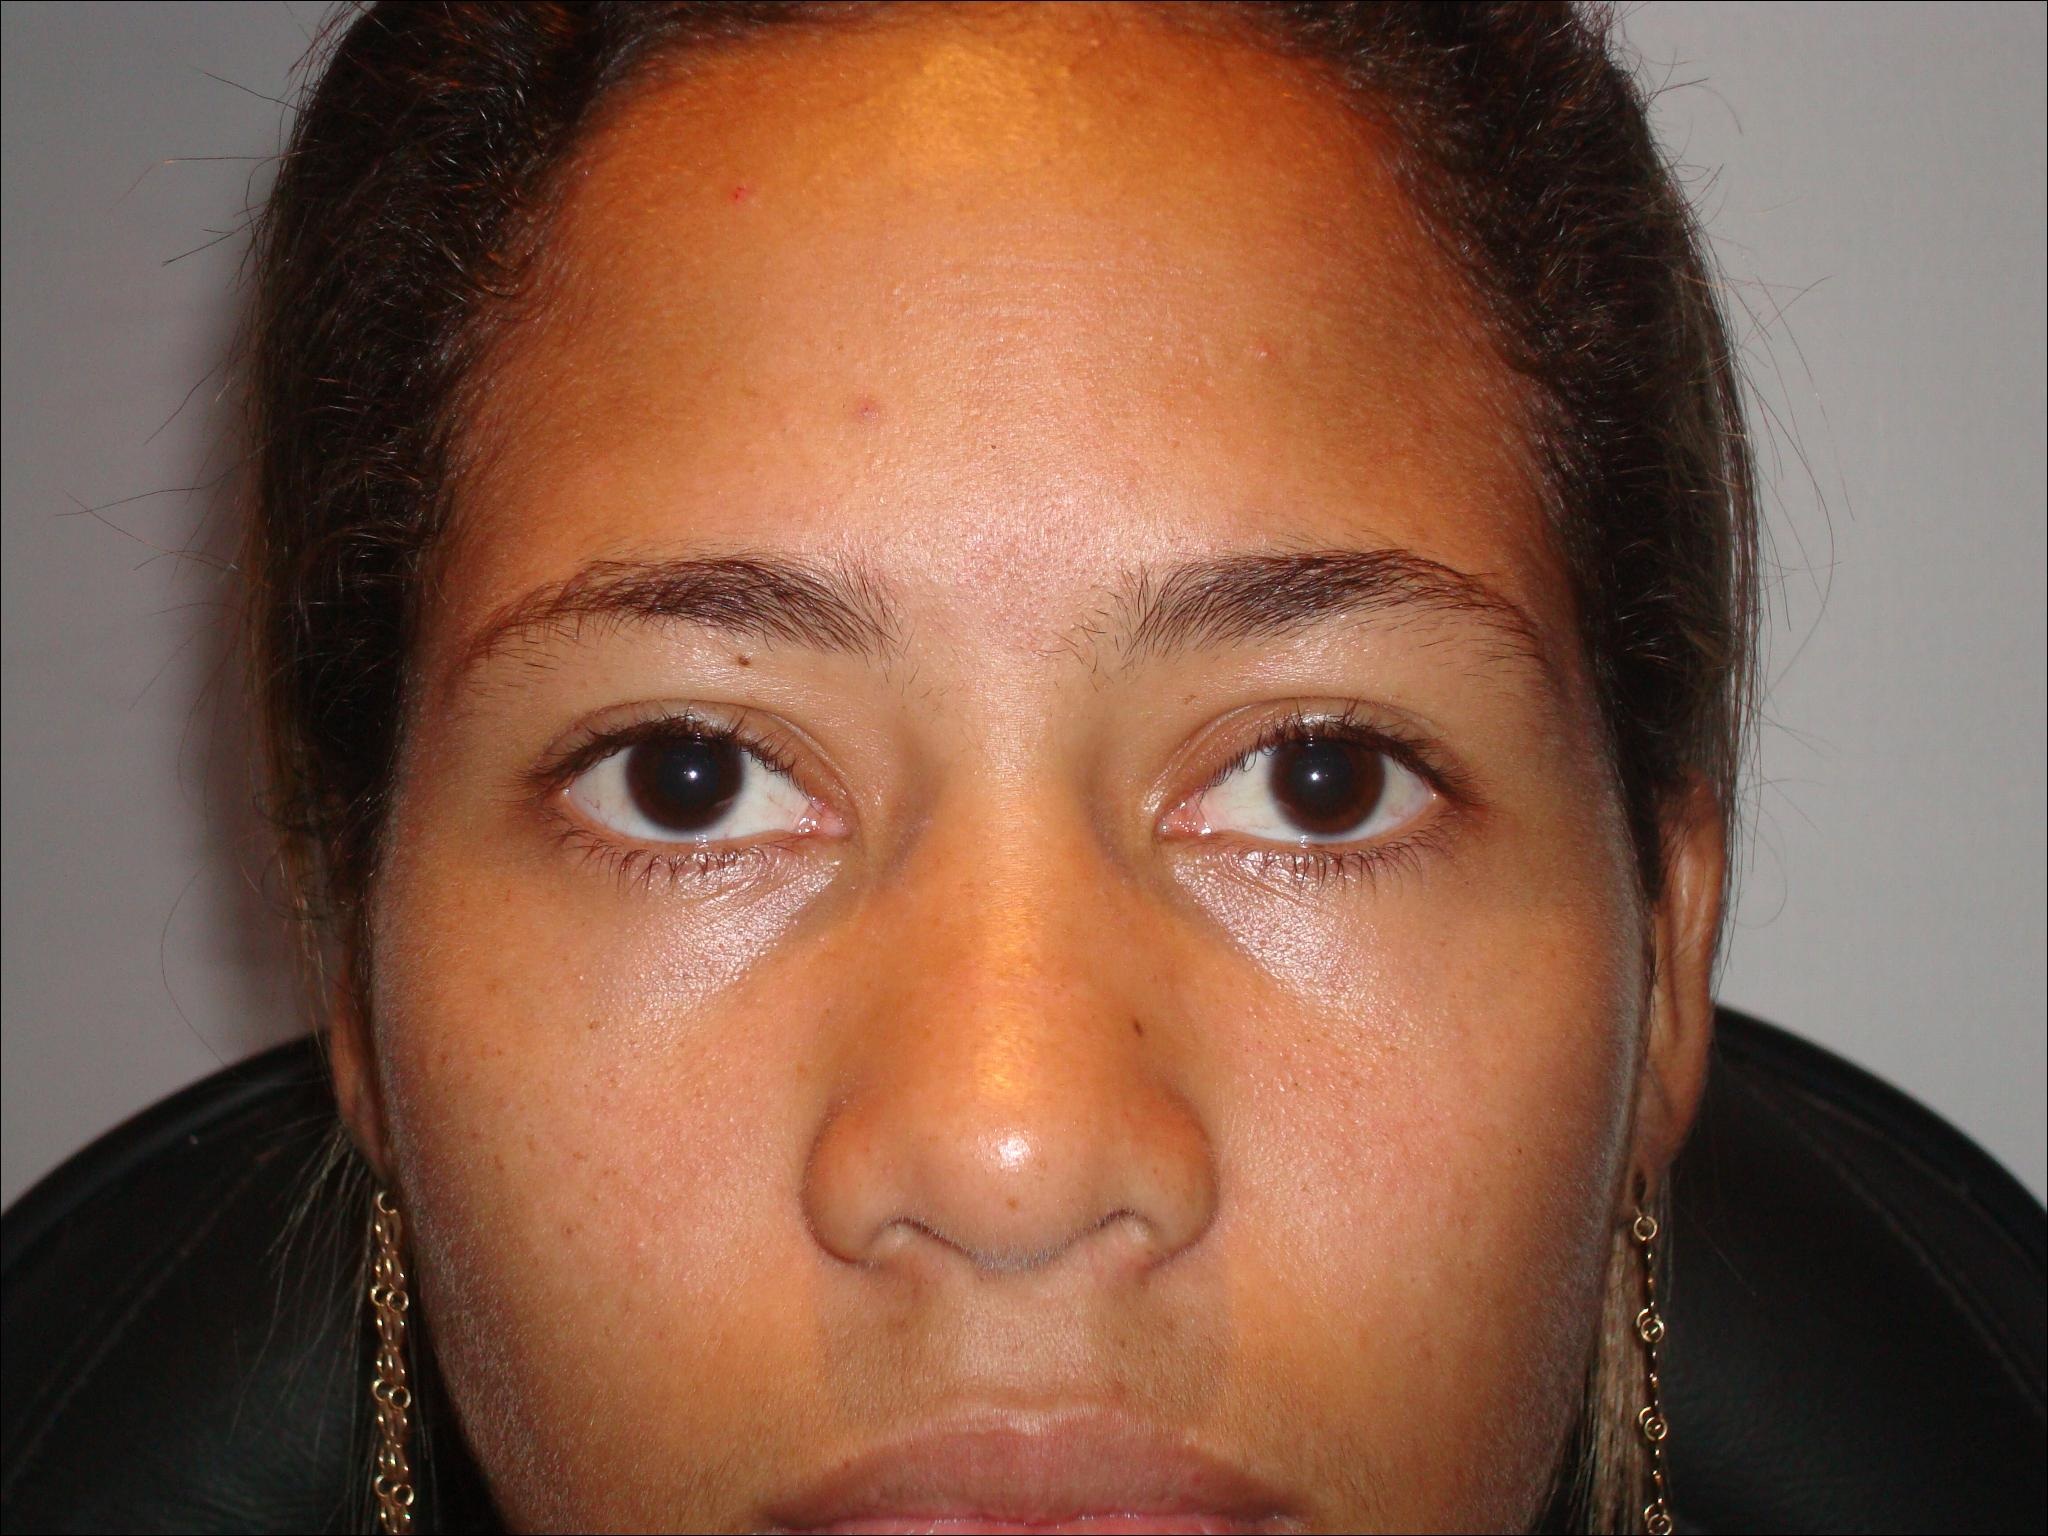flash: (1305, 765, 1324, 787), (685, 765, 701, 784)
limbo: (1259, 718, 1379, 833), (624, 720, 748, 826)
